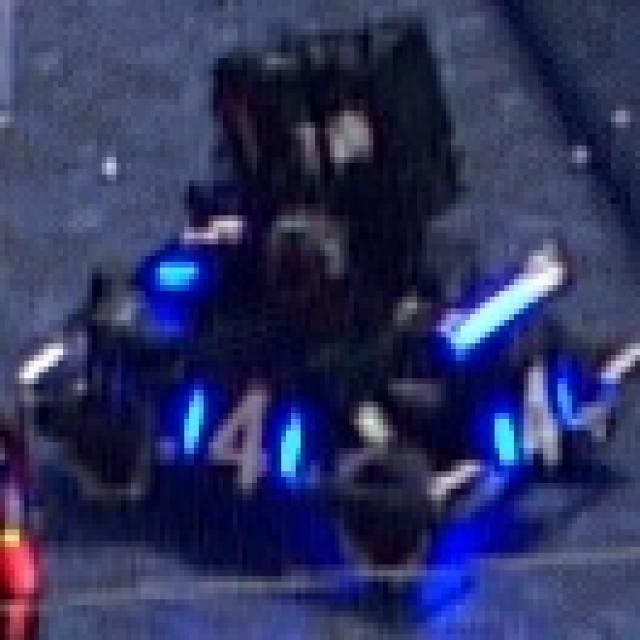B4: (170, 366, 339, 488), (485, 361, 591, 483)
